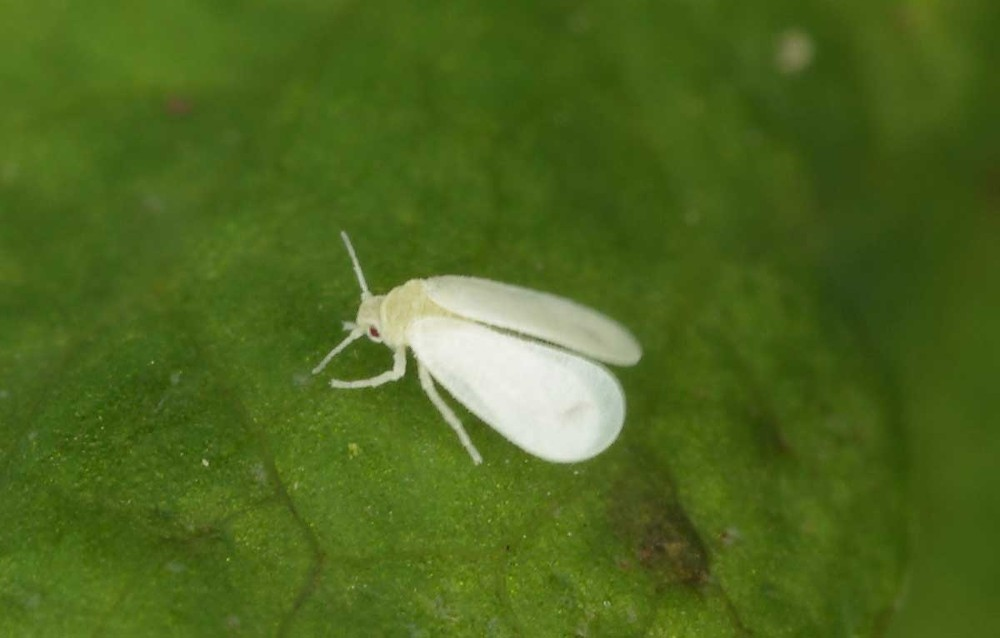Mosca Blanca: (301, 217, 652, 501)
